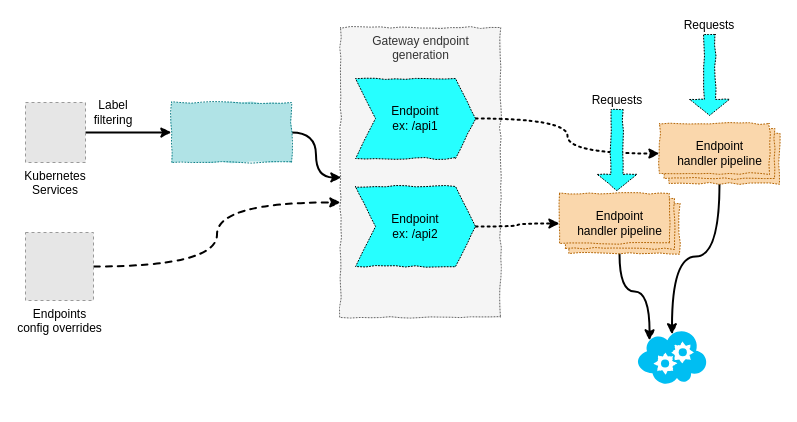
This 797x422 diagram has some shape labels left out. Grey dashed boxes stand in for pictures. Each missing label, with the centre of its shape:
"Upstream discovery" belongs at pixel 231 132.
"Upstream services" belongs at pixel 671 356.
